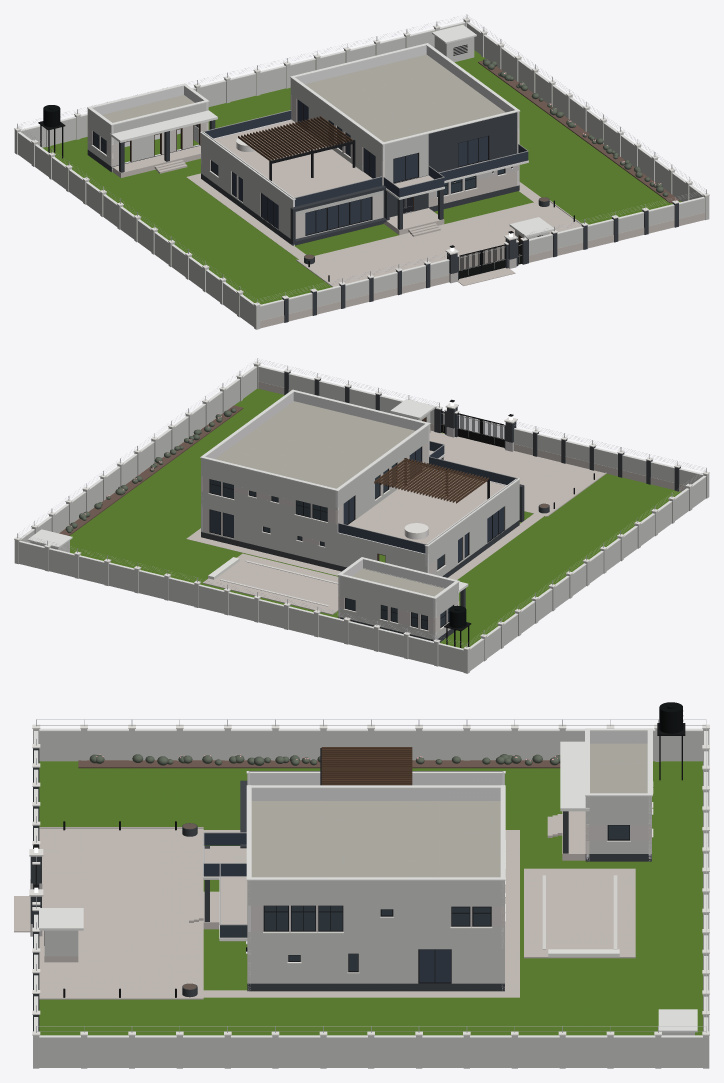
The model's file is est_S1.glb.
3 renders of one model, top to bottom at view 1: azimuth 30°, elevation 25°; view 2: azimuth 150°, elevation 25°; view 3: azimuth 270°, elevation 25°, orthographic. The views are drawn at different scales.
Parts seen in each view (by area): view 1: GR_est_S1, GD_est_S1, GT_est_S1; view 2: GR_est_S1, GD_est_S1, GT_est_S1; view 3: GR_est_S1, GD_est_S1.
Part boxes in pixels (left/top/right/bottom): GR_est_S1: left=14, top=20, right=709, bottom=329; GD_est_S1: left=14, top=14, right=709, bottom=305; GT_est_S1: left=459, top=242, right=522, bottom=278; GR_est_S1: left=14, top=364, right=709, bottom=673; GD_est_S1: left=14, top=358, right=709, bottom=649; GT_est_S1: left=441, top=411, right=504, bottom=447; GR_est_S1: left=14, top=728, right=709, bottom=1068; GD_est_S1: left=29, top=702, right=709, bottom=1035.
Bounding box in the file's own units: 52.55 × 10.33 × 49.87.
8 materials, 2 textured.
